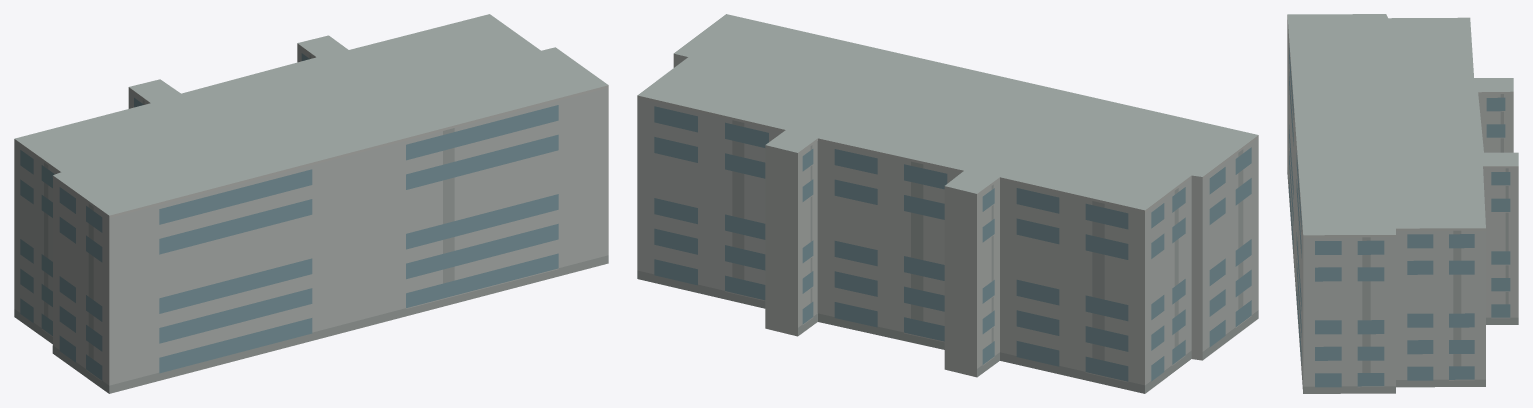
Rendered from survey-upis-32838264.glb.
3 views of the same model, side by side, from view 1: azimuth 30°, elevation 25°; view 2: azimuth 150°, elevation 25°; view 3: azimuth 270°, elevation 25° (orthographic). The views are drawn at different scales.
Parts seen in each view (by area): view 1: survey-upis-32838264.tmp; view 2: survey-upis-32838264.tmp; view 3: survey-upis-32838264.tmp.
Part boxes in pixels (x1=…): survey-upis-32838264.tmp: x1=14, y1=14, x2=608, y2=393; survey-upis-32838264.tmp: x1=637, y1=14, x2=1258, y2=393; survey-upis-32838264.tmp: x1=1287, y1=14, x2=1518, y2=393.
Bounding box in the file's own units: 52.03 × 17.4 × 22.97.
